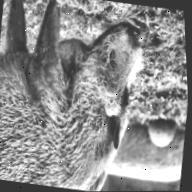boar: (0, 0, 162, 192)
